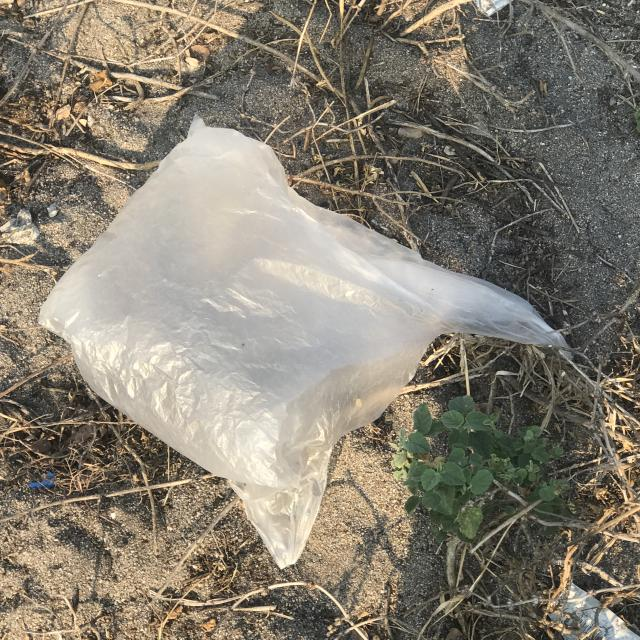Single-layer Plastic: (30, 115, 585, 579)
